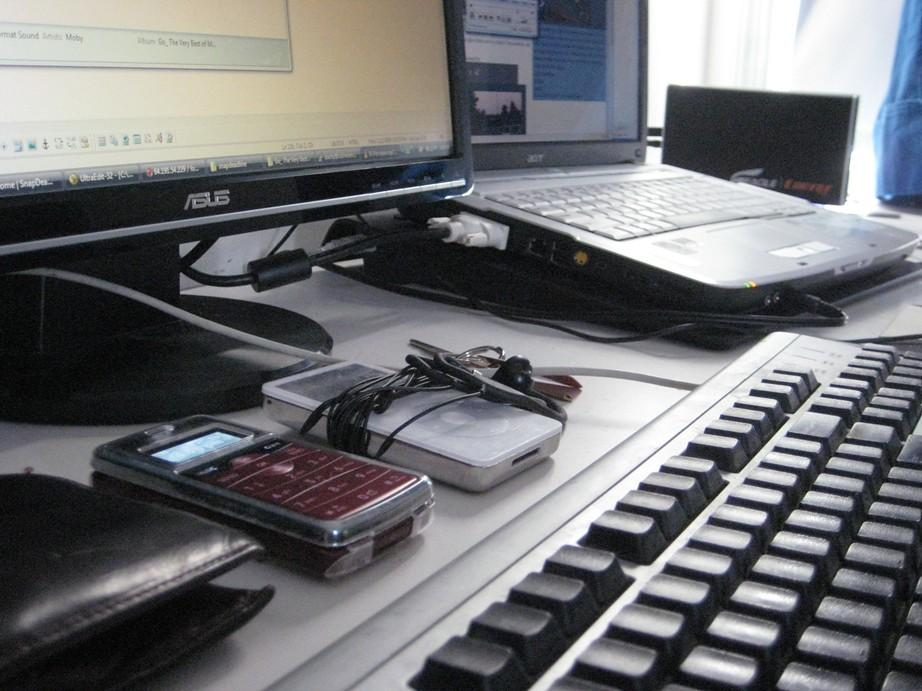computer: (1, 1, 477, 424), (360, 1, 920, 334)
